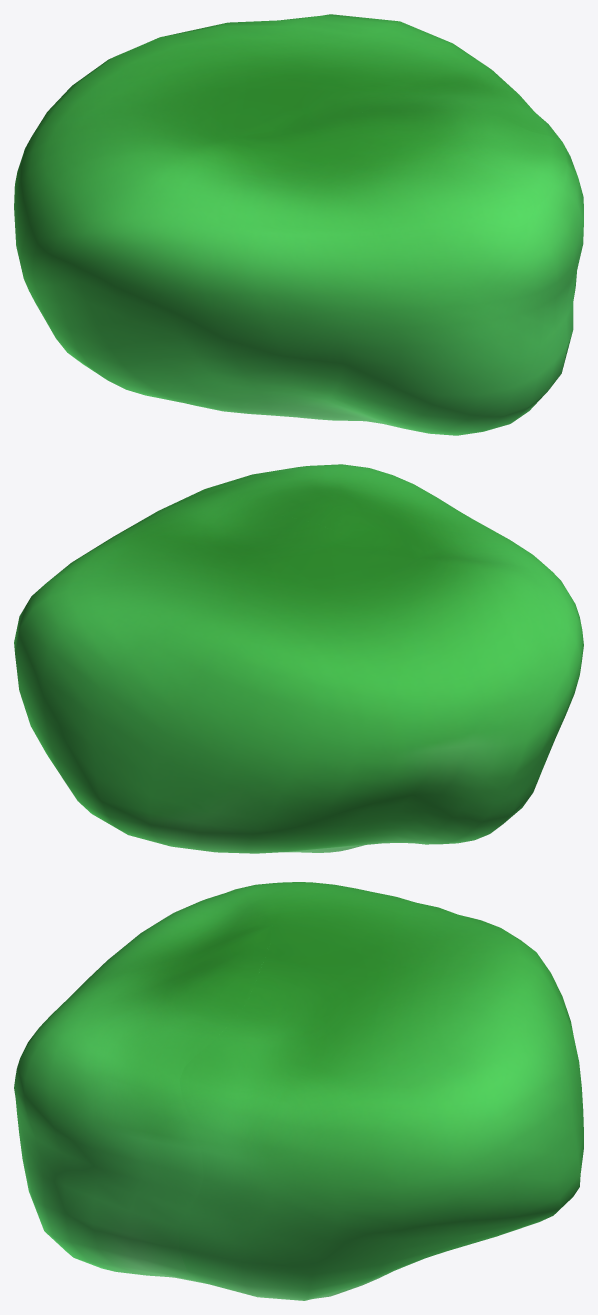
The model's file is Bush 3.fbx.
3 renders of one model, top to bottom at view 1: azimuth 30°, elevation 25°; view 2: azimuth 150°, elevation 25°; view 3: azimuth 270°, elevation 25°, orthographic. The views are drawn at different scales.
Visible parts, largest first — view 1: Sphere; view 2: Sphere; view 3: Sphere.
Boxes of the visible parts, x1,y1,x2,y2 form: Sphere: (14,14,583,435); Sphere: (14,464,583,853); Sphere: (14,882,583,1300).
Size of the model in its own units: 259 by 158 by 264.
